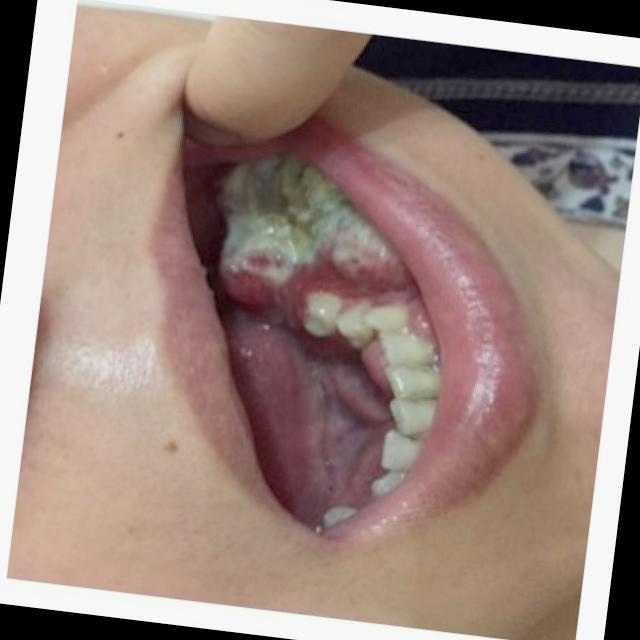Cancer: (196, 143, 416, 338)
